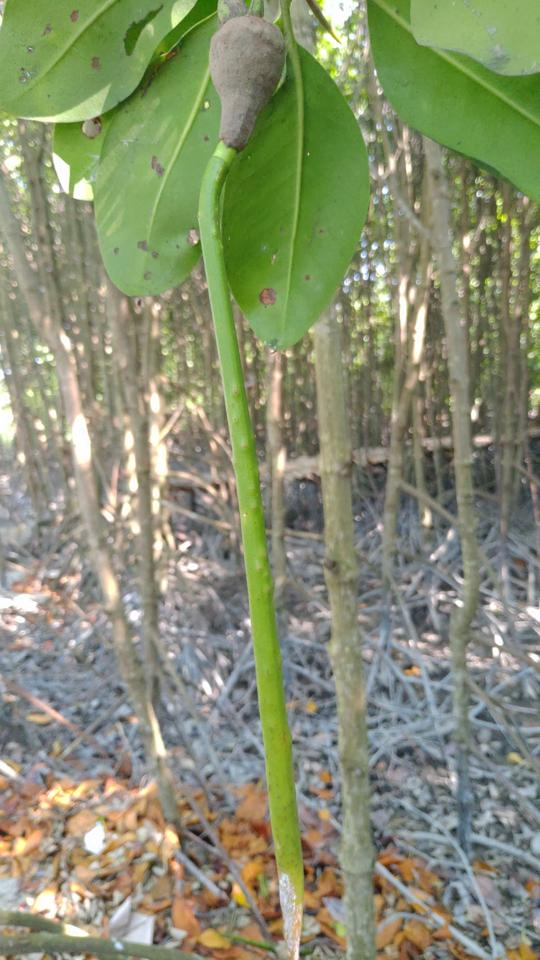setengah matang: (189, 1, 333, 952)
